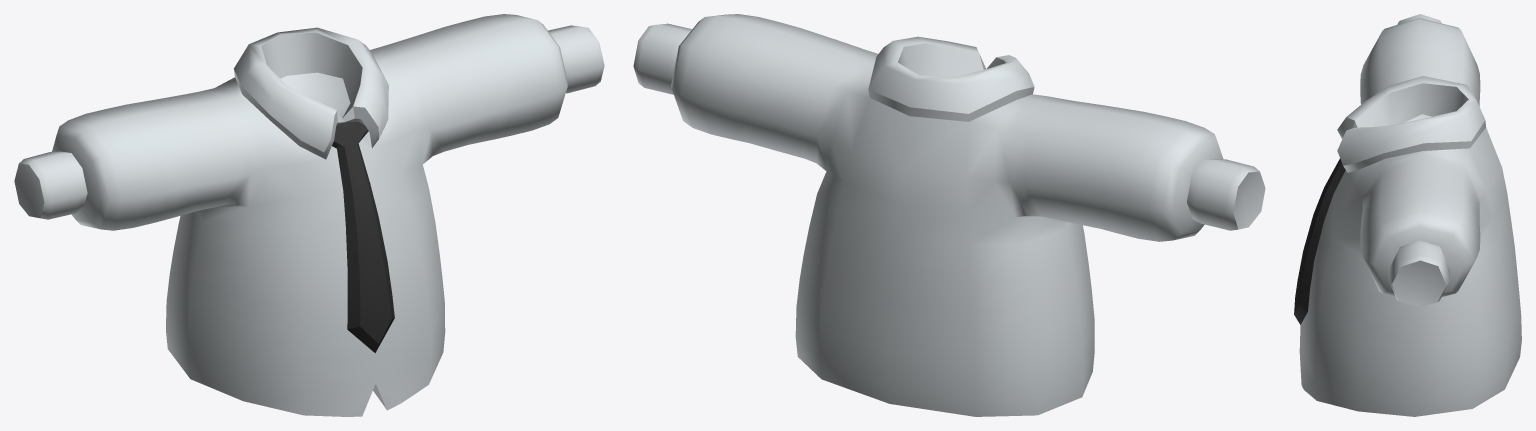
The model's file is Top_35.fbx.
The picture shows the model from 3 angles, left to right: view 1: azimuth 30°, elevation 25°; view 2: azimuth 150°, elevation 25°; view 3: azimuth 270°, elevation 25°; orthographic projection. The views are drawn at different scales.
Visible parts, largest first — view 1: Top_35; view 2: Top_35; view 3: Top_35.
Boxes of the visible parts, left/top/right/bottom form: Top_35: left=14, top=14, right=604, bottom=416; Top_35: left=633, top=14, right=1265, bottom=416; Top_35: left=1294, top=14, right=1521, bottom=416.
Size of the model in its own units: 95.16 by 50.74 by 37.19.
